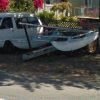Boat: (9, 29, 100, 57)
